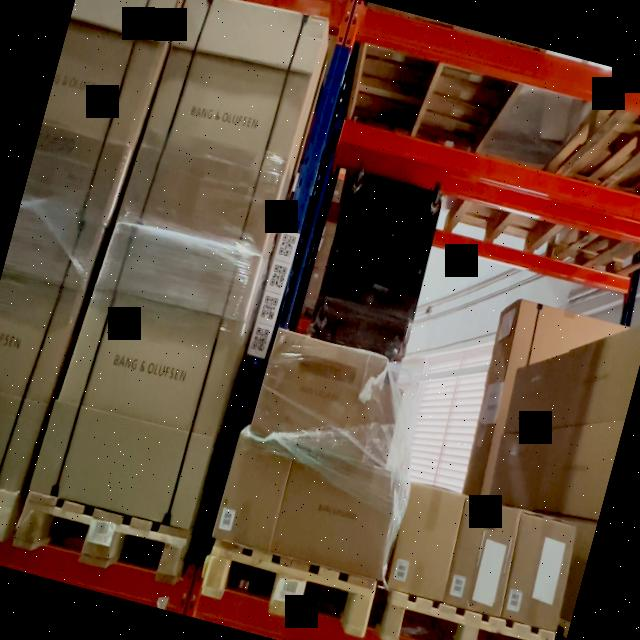box: (45, 227, 254, 527), (122, 0, 327, 257), (290, 164, 448, 359), (264, 438, 413, 590), (250, 331, 390, 457), (495, 513, 583, 629), (384, 484, 466, 604), (212, 432, 294, 548), (441, 497, 526, 608)
